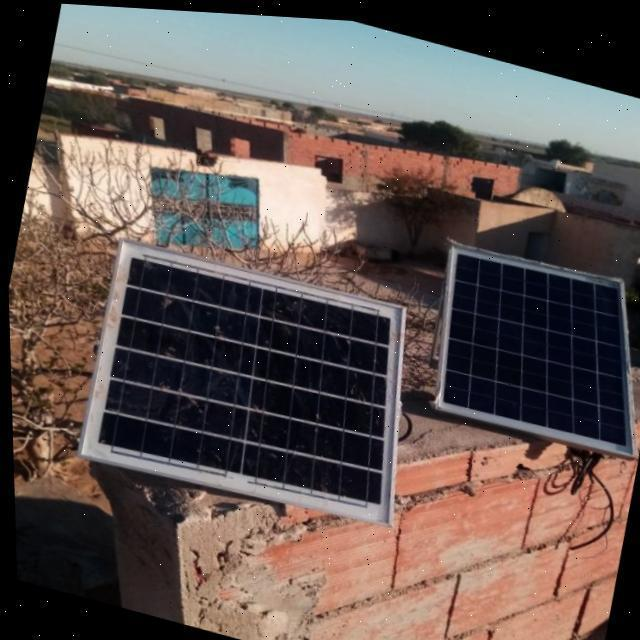Normal Solar Panel: (414, 225, 640, 456)
